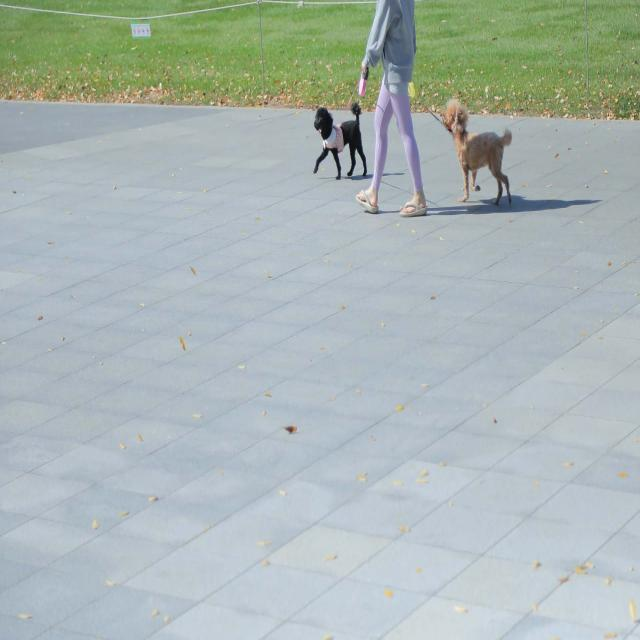Leashed_Dog: (398, 44, 516, 204), (312, 46, 389, 181)
